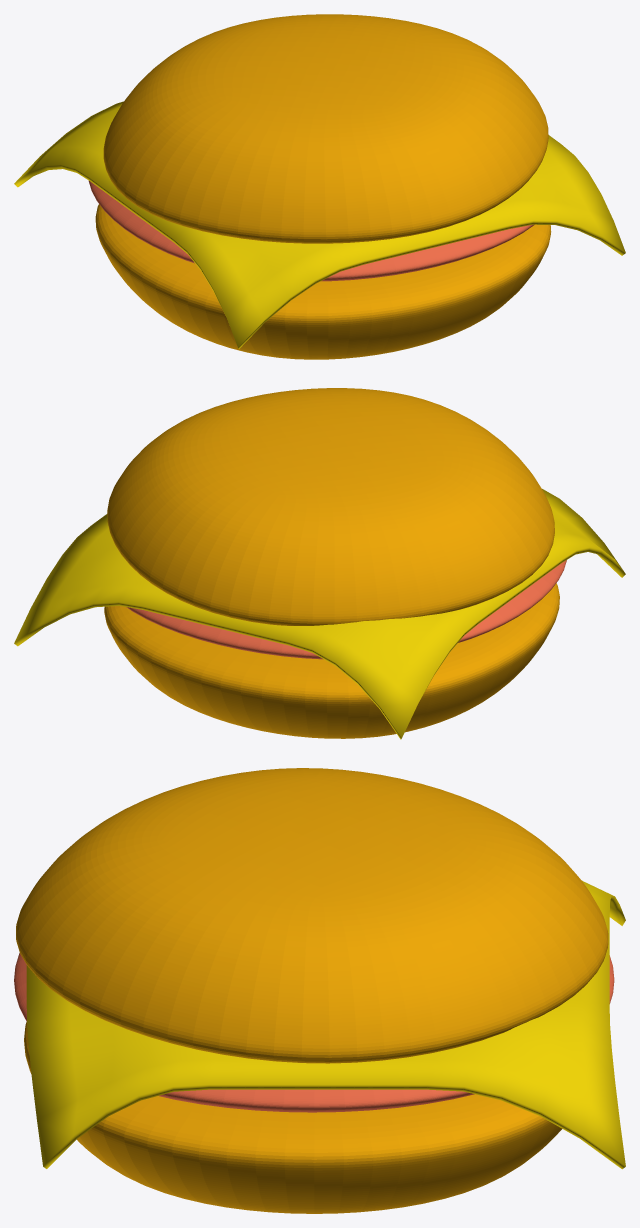
The model's file is hamberger.glb.
The picture shows the model from 3 angles, top to bottom: view 1: azimuth 30°, elevation 25°; view 2: azimuth 150°, elevation 25°; view 3: azimuth 270°, elevation 25°; orthographic projection. The views are drawn at different scales.
Visible parts, largest first — view 1: Cube.002, Cube, Plane, Cube.001; view 2: Cube.002, Cube, Plane, Cube.001; view 3: Cube.002, Plane, Cube, Cube.001.
Part boxes in pixels (bbox=[...]): Cube.002: bbox=[103, 14, 548, 243]; Cube: bbox=[95, 204, 551, 359]; Plane: bbox=[14, 101, 625, 348]; Cube.001: bbox=[88, 181, 534, 281]; Cube.002: bbox=[107, 388, 554, 625]; Cube: bbox=[104, 583, 559, 738]; Plane: bbox=[14, 489, 625, 739]; Cube.001: bbox=[126, 560, 566, 659]; Cube.002: bbox=[16, 768, 608, 1063]; Plane: bbox=[26, 880, 625, 1169]; Cube: bbox=[24, 1022, 561, 1213]; Cube.001: bbox=[14, 953, 614, 1112].
Bounding box in the file's own units: 6.77 × 3.92 × 6.9.
